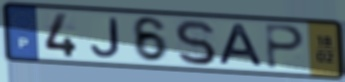4: (43, 11, 79, 59)
6: (129, 15, 171, 64)
A: (217, 22, 266, 69)
J: (89, 16, 123, 60)
P: (263, 22, 307, 72)
S: (172, 18, 218, 67)
